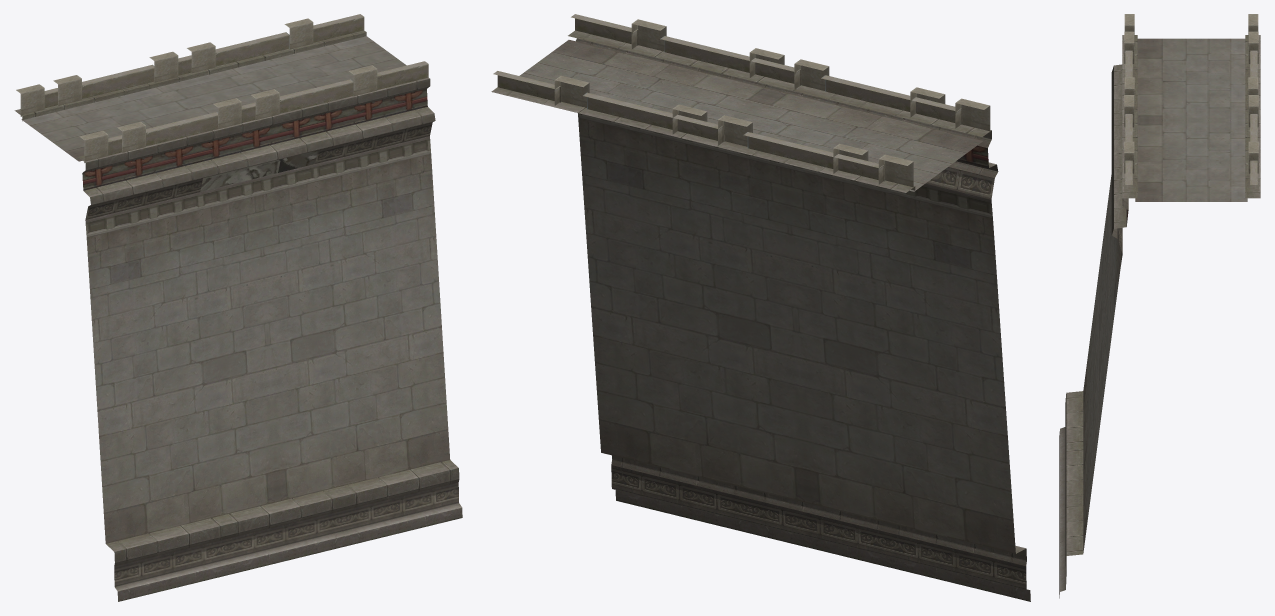
Rendered from cj_luoyang_chengqiang03_55_58_7798out.fbx.
3 views of the same model, side by side, from view 1: azimuth 30°, elevation 25°; view 2: azimuth 150°, elevation 25°; view 3: azimuth 270°, elevation 25° (orthographic). The views are drawn at different scales.
Visible parts, largest first — view 1: 0000_cj_luoyang_chengqiang03, 0001_cj_luoyang_chengqiang03; view 2: 0000_cj_luoyang_chengqiang03, 0001_cj_luoyang_chengqiang03; view 3: 0000_cj_luoyang_chengqiang03, 0001_cj_luoyang_chengqiang03.
Part boxes in pixels (bbox=[...]): 0000_cj_luoyang_chengqiang03: bbox=[14, 30, 462, 601]; 0001_cj_luoyang_chengqiang03: bbox=[16, 14, 428, 162]; 0000_cj_luoyang_chengqiang03: bbox=[491, 30, 1030, 601]; 0001_cj_luoyang_chengqiang03: bbox=[493, 14, 990, 188]; 0000_cj_luoyang_chengqiang03: bbox=[1059, 35, 1260, 598]; 0001_cj_luoyang_chengqiang03: bbox=[1124, 14, 1258, 184].
Bounding box in the file's own units: 4.37 × 5.3 × 2.28.
